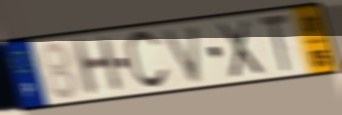8: (41, 40, 80, 102)
C: (123, 28, 172, 92)
H: (68, 33, 127, 100)
T: (256, 11, 294, 76)
V: (160, 22, 203, 86)
X: (214, 17, 266, 82)
